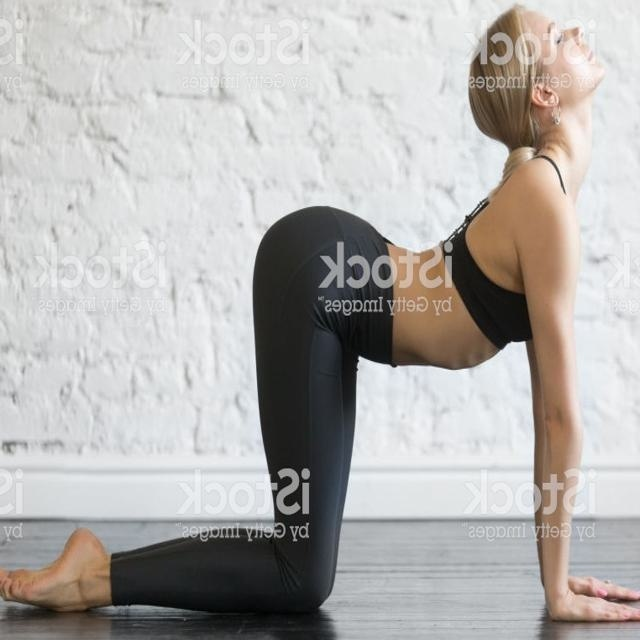Cow_Pose: (8, 6, 633, 623)
